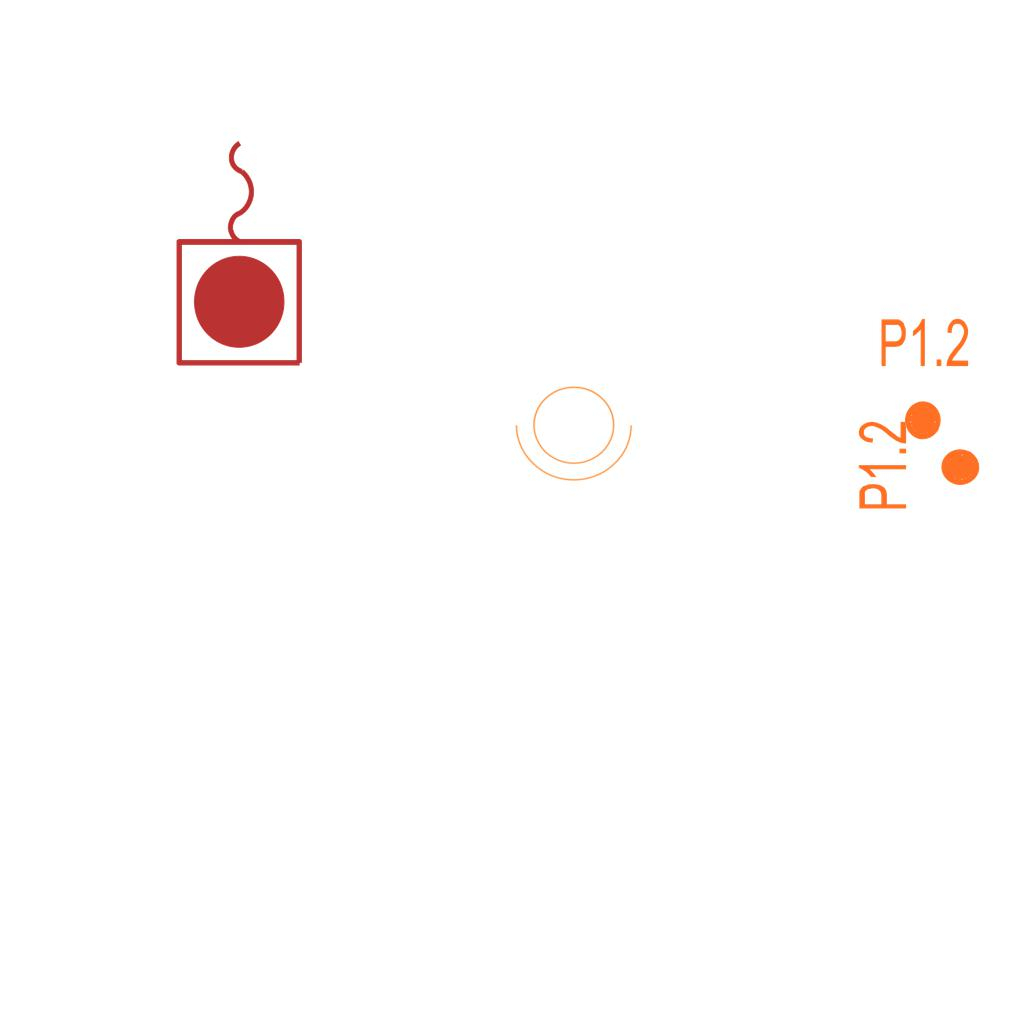Downlight_LED_Einbauleuchten_Flur: (855, 419, 983, 512), (878, 315, 971, 443)
Scheinwerfer_fuer_Alarmbeleuchtung: (511, 374, 643, 486)
Zugtaster: (169, 130, 313, 374)
